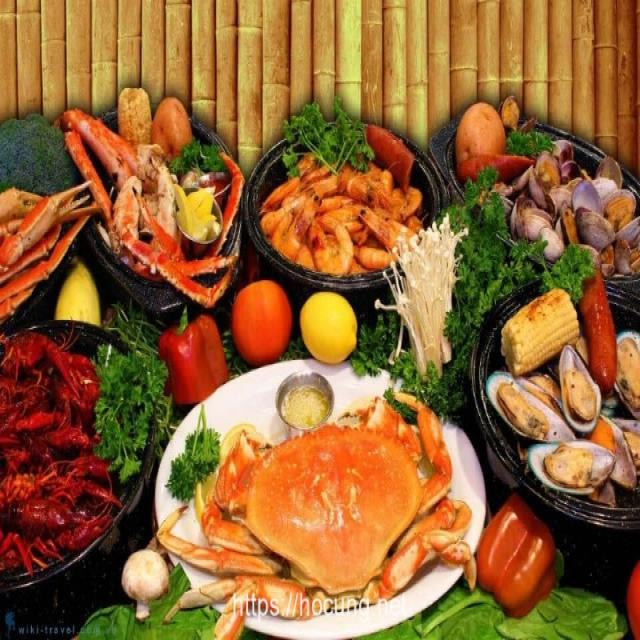cua hap: (175, 402, 493, 630), (59, 93, 244, 309)
hau hap: (468, 271, 640, 526)
so hap: (452, 89, 638, 273)
tom hap: (262, 114, 431, 288)
